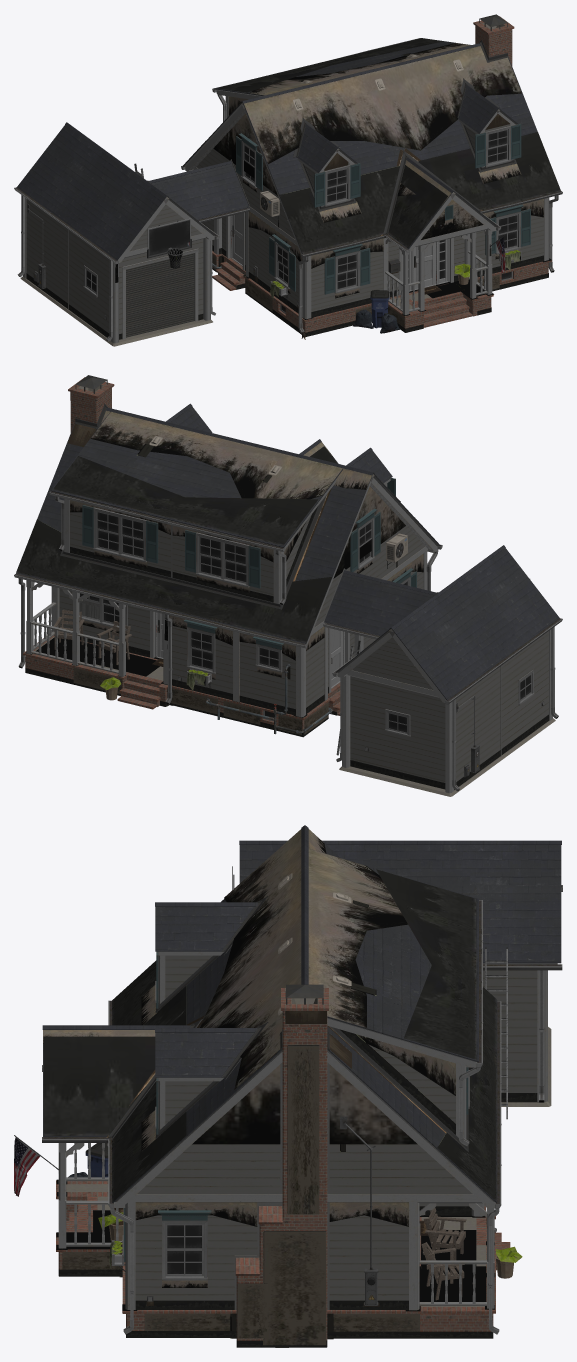
The model's file is house.glb.
3 views of the same model, one above another, from view 1: azimuth 30°, elevation 25°; view 2: azimuth 150°, elevation 25°; view 3: azimuth 270°, elevation 25° (orthographic). The views are drawn at different scales.
Visible parts, largest first — view 1: Model__Main, Model__Glass; view 2: Model__Main, Model__Glass; view 3: Model__Main, Model__Glass.
Boxes of the visible parts, x1,y1,x2,y2 form: Model__Main: (14,14,562,346); Model__Glass: (26,38,560,339); Model__Main: (14,375,562,796); Model__Glass: (16,392,548,789); Model__Main: (14,825,562,1347); Model__Glass: (43,829,538,1347).
Size of the model in its own units: 5.89 by 3 by 4.2.
Materials: 2 (2 with a texture image).
